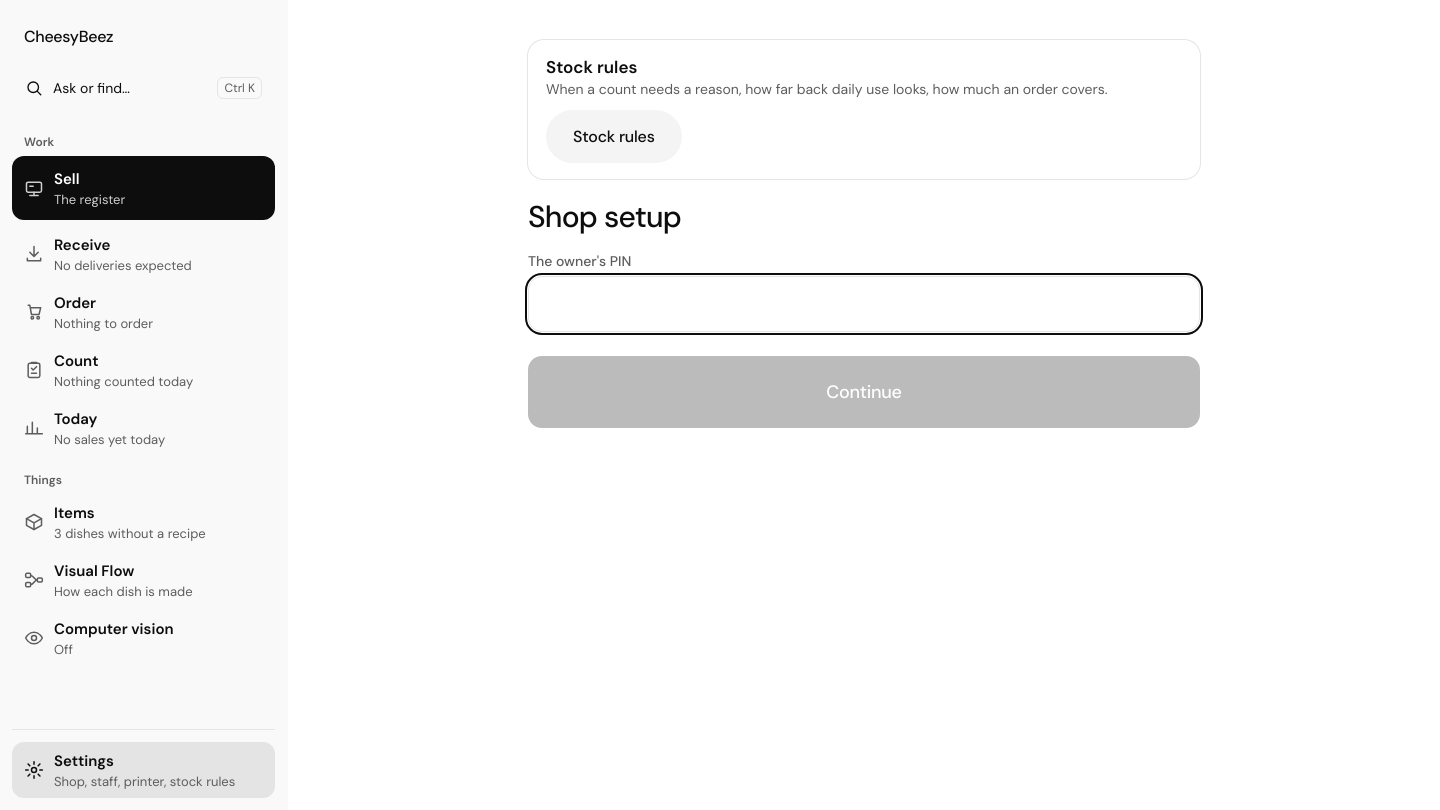
Shop setup → Updates: a version downloaded and held back says when it installs by itself
Type "1234" into the password field labelled "The owner's PIN" at (864, 304), box 528,276 -> 1200,332
Then press Enter
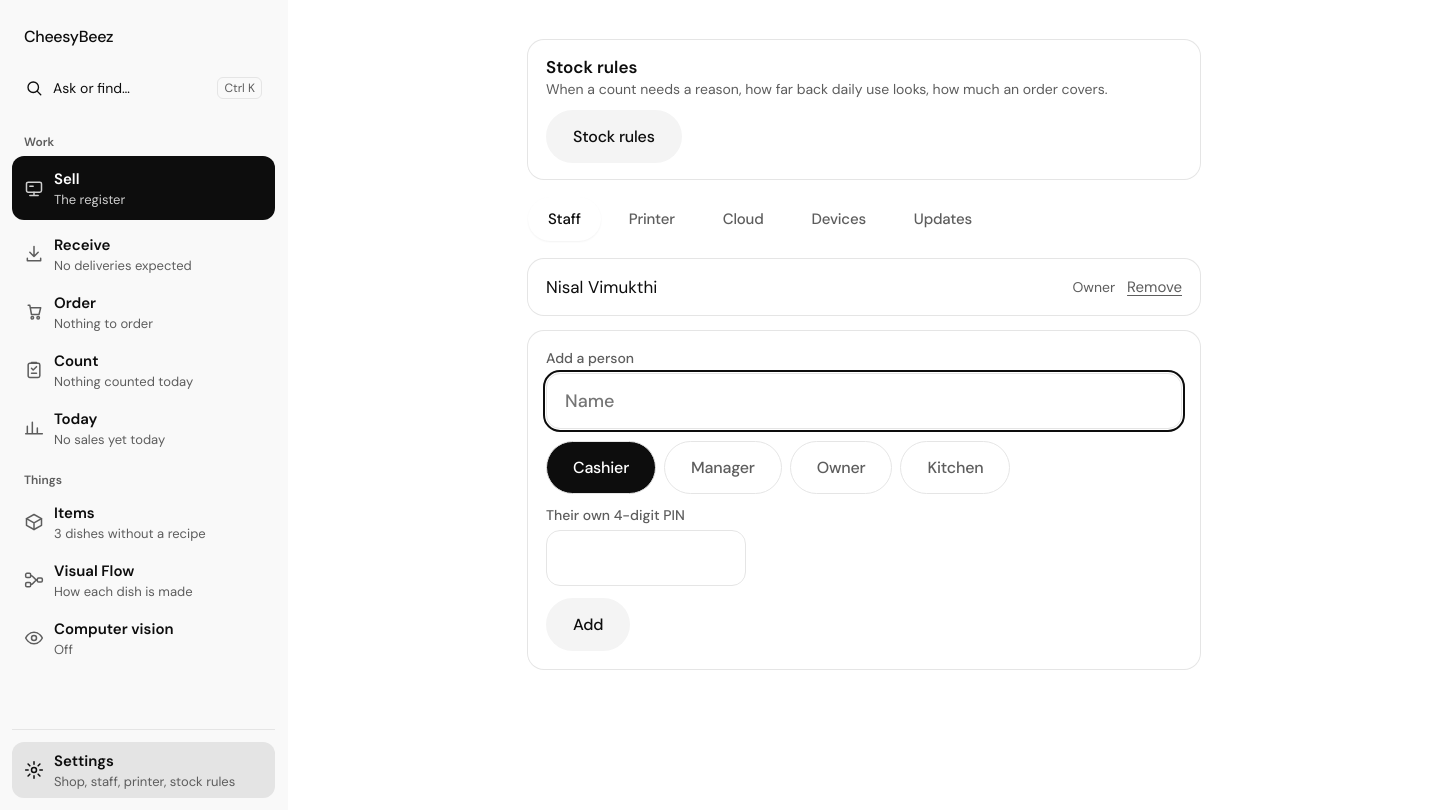
Click the button "Updates" at (943, 219), box 894,197 -> 992,241
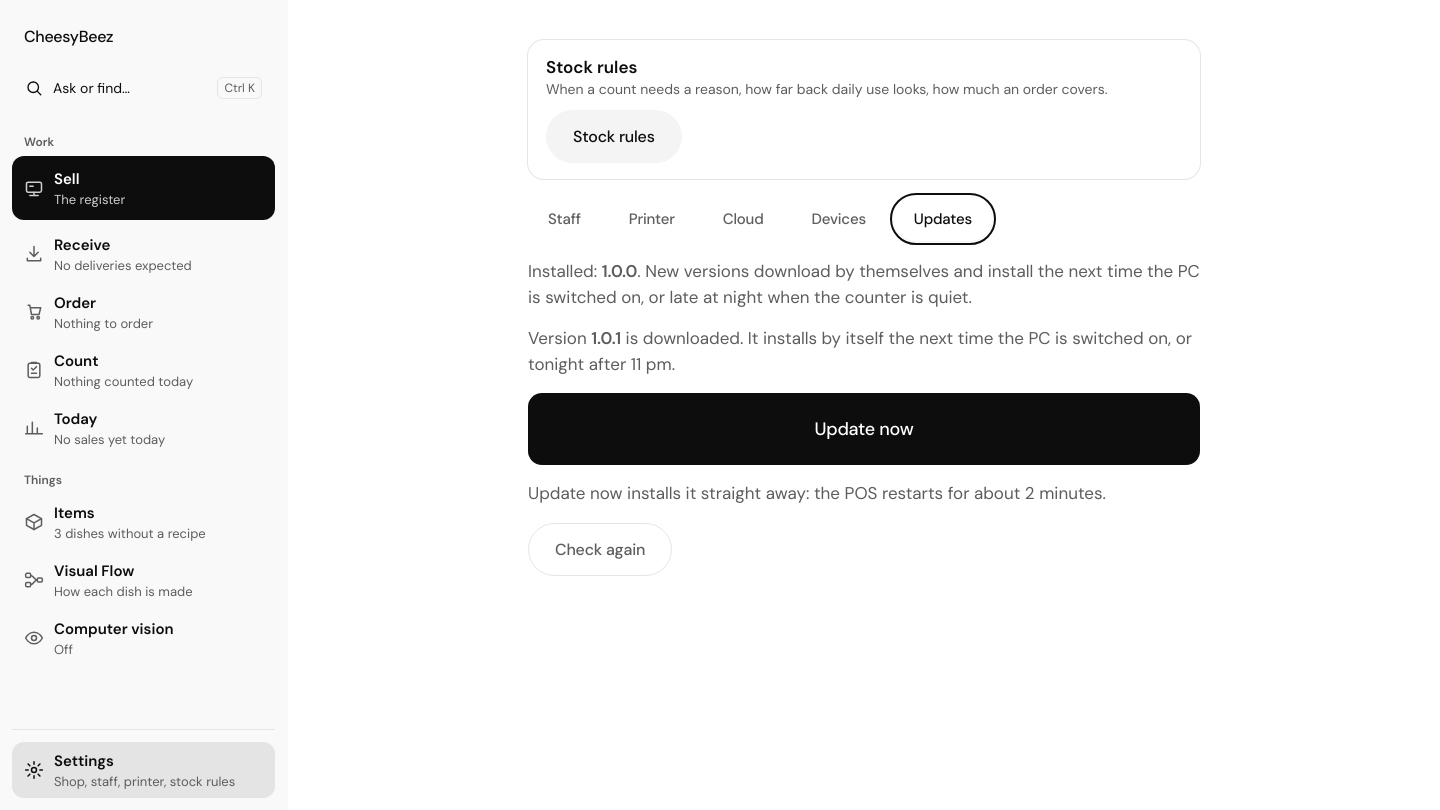
Expected: the text "is downloaded" shows "Version 1.0.1 is downloaded. It installs by itself the next time the PC is switched on, or tonight after 11 pm.", 528,326 -> 1200,377
Expected: the button "Update now" is shown, 528,393 -> 1200,465
